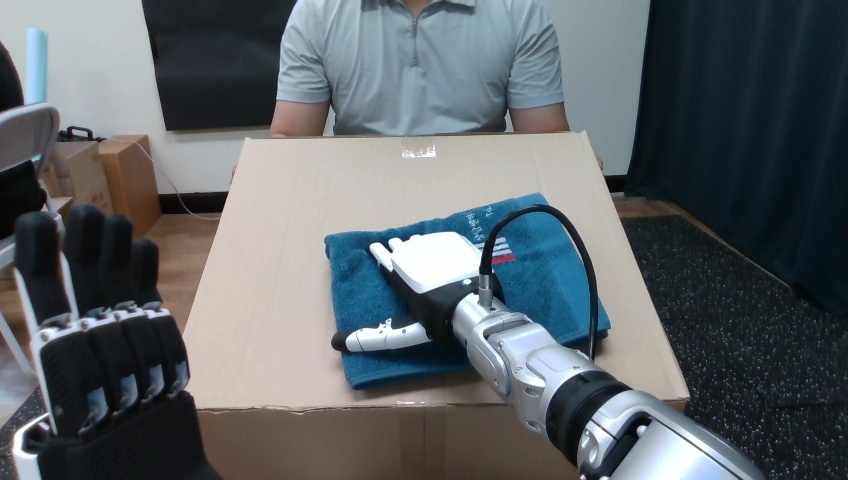left robot hand: (332, 204, 762, 479), (490, 211, 590, 355), (147, 214, 217, 329)
